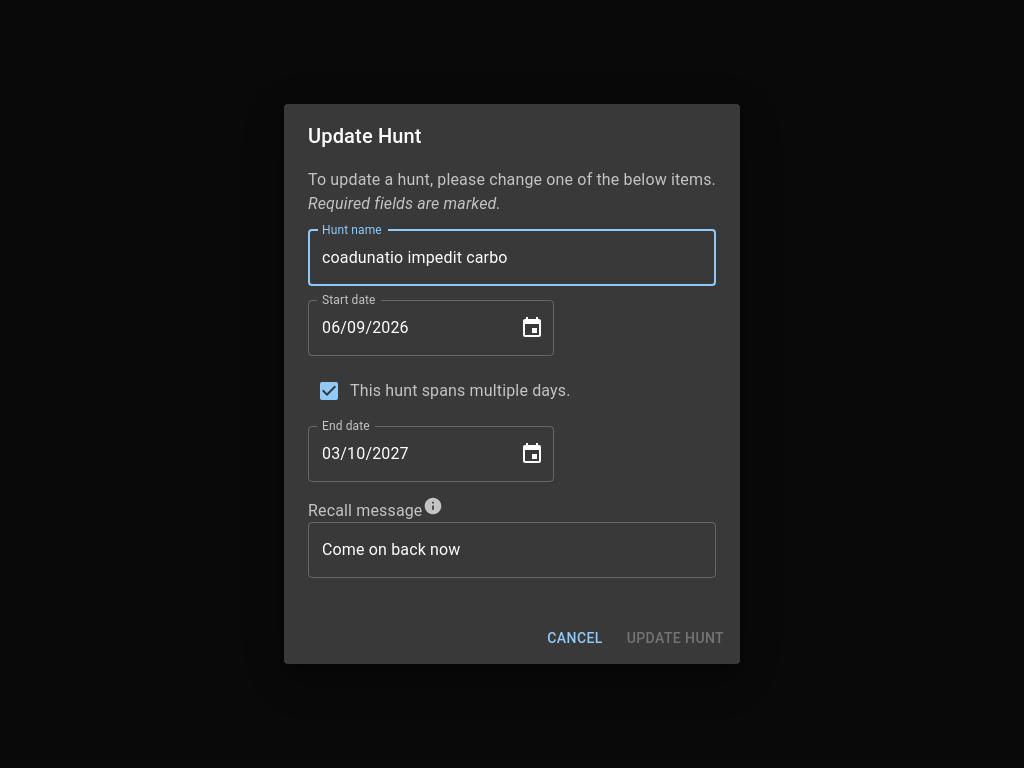
Test: UpdateHuntDialog › Name field › INVALID - empty
Clear the field with test id "update-hunt-name" at (512, 258), box [308,230,716,286]
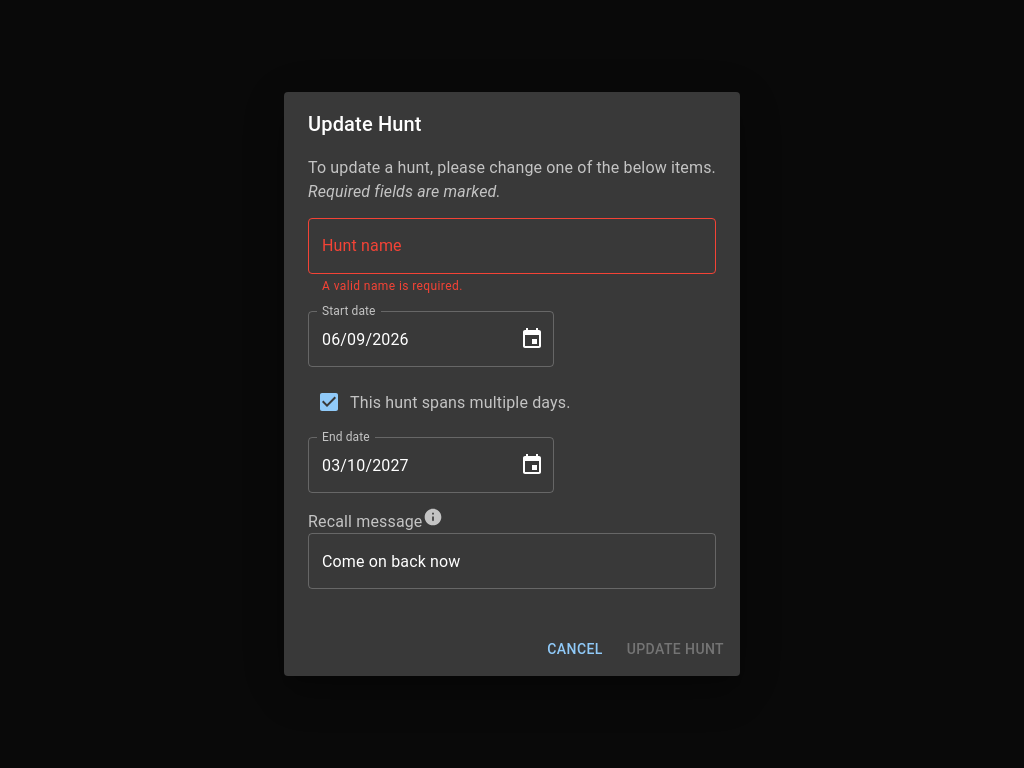
Check: the text "A valid name is required." is shown, box [322,279,463,293]
